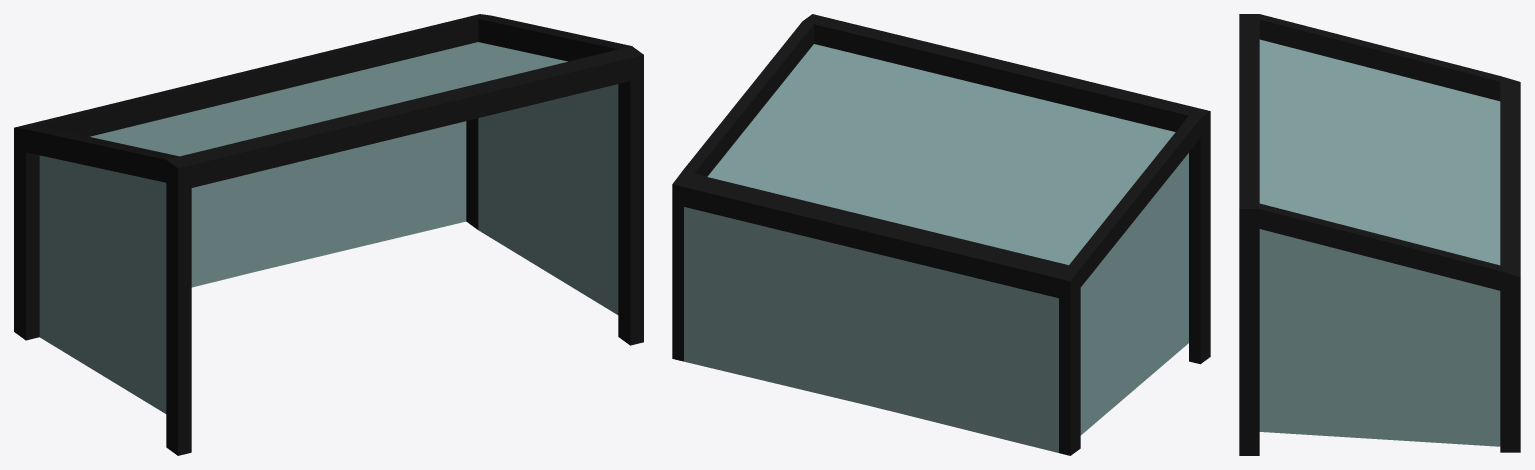
File: goal.obj
3 views of the same model, side by side, from view 1: azimuth 30°, elevation 25°; view 2: azimuth 150°, elevation 25°; view 3: azimuth 270°, elevation 25° (orthographic). The views are drawn at different scales.
Parts seen in each view (by area): view 1: Cube; view 2: Cube; view 3: Cube.
Boxes of the visible parts, x1,y1,x2,y2 form: Cube: [14, 14, 643, 455]; Cube: [672, 14, 1210, 455]; Cube: [1239, 14, 1520, 455].
Bounding box in the file's own units: 7.11 × 4.19 × 4.33.
